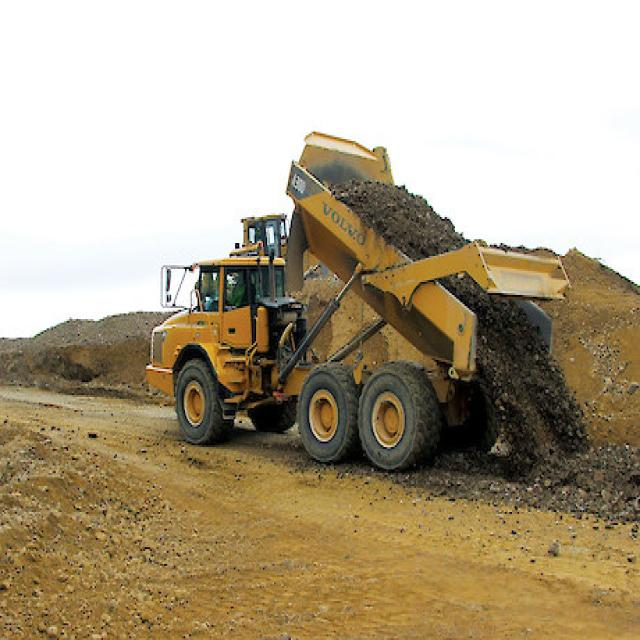dump_truck: (146, 89, 583, 473)
